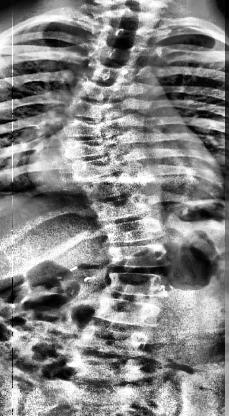Vertebrae: (75, 321, 153, 363), (60, 128, 140, 164), (67, 150, 147, 184), (60, 378, 140, 412), (100, 240, 178, 274), (67, 356, 149, 387), (89, 298, 163, 332), (87, 191, 163, 223), (96, 217, 170, 249), (102, 271, 174, 303), (76, 171, 154, 199), (57, 116, 137, 142), (63, 97, 134, 125), (80, 60, 140, 89), (71, 76, 133, 104), (94, 23, 157, 49), (101, 8, 161, 34), (87, 41, 142, 68)
